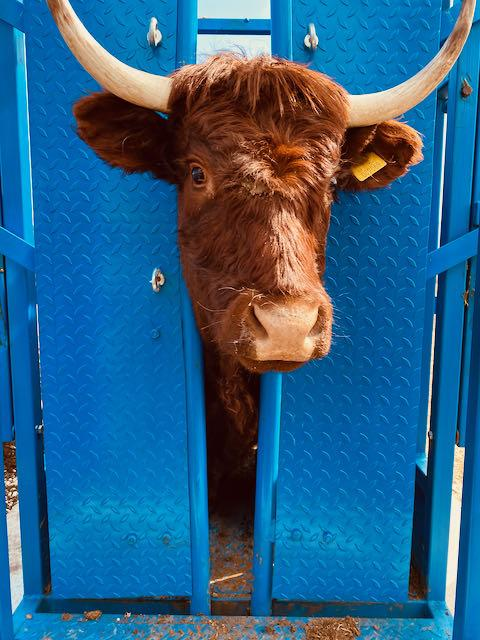muzzles: (222, 289, 333, 377)
